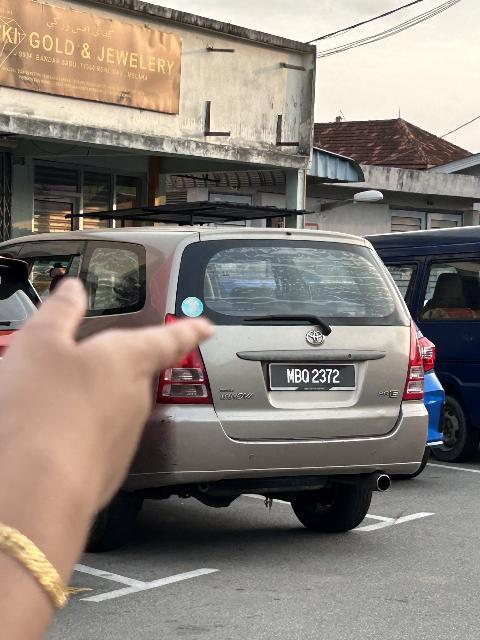License_Plate: (270, 361, 361, 394)
MBQ2372: (270, 361, 361, 394)
car: (1, 223, 431, 538)
